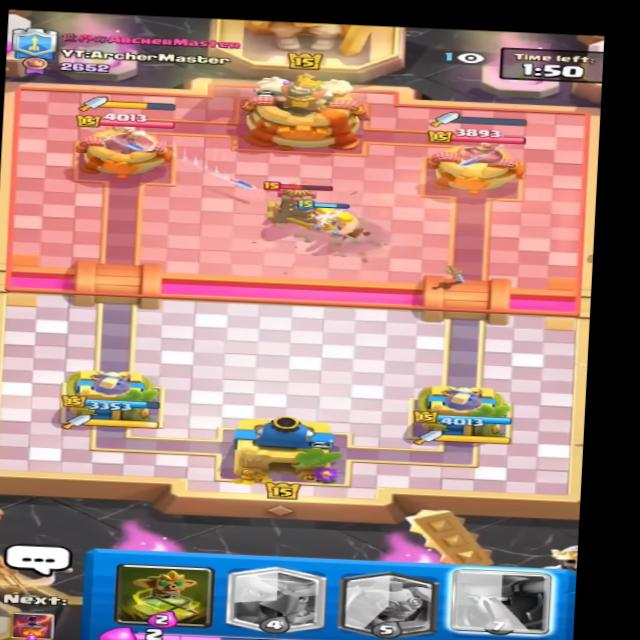tesla: (254, 179, 339, 232)
